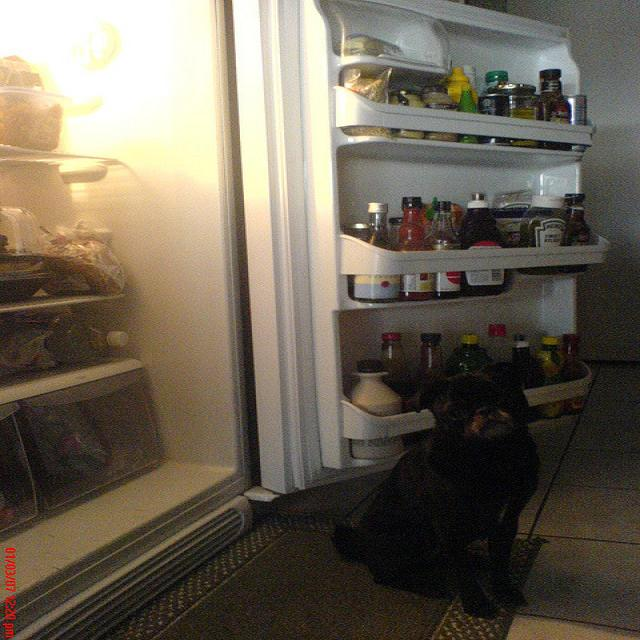dog: (385, 351, 610, 640)
